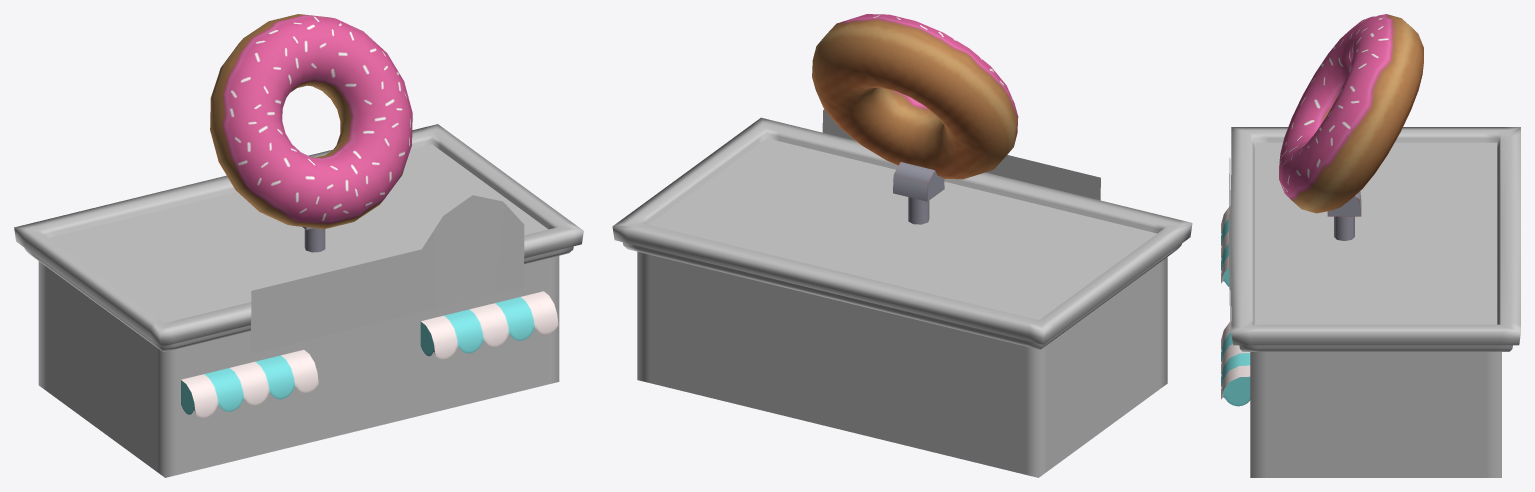
The model's file is House_Bonkin.fbx.
The picture shows the model from 3 angles, left to right: view 1: azimuth 30°, elevation 25°; view 2: azimuth 150°, elevation 25°; view 3: azimuth 270°, elevation 25°; orthographic projection. The views are drawn at different scales.
Parts seen in each view (by area): view 1: House_Bonkin, Donut, Sign, Awning_1; view 2: House_Bonkin, Donut, Sign; view 3: House_Bonkin, Donut, Awning_1, Sign.
Boxes of the visible parts, bbox=[...] form: House_Bonkin: bbox=[14, 124, 583, 477]; Donut: bbox=[210, 14, 412, 229]; Sign: bbox=[250, 195, 524, 353]; Awning_1: bbox=[181, 291, 558, 417]; House_Bonkin: bbox=[612, 117, 1192, 477]; Donut: bbox=[812, 14, 1018, 179]; Sign: bbox=[822, 109, 1100, 200]; House_Bonkin: bbox=[1231, 127, 1520, 477]; Donut: bbox=[1279, 14, 1423, 213]; Awning_1: bbox=[1221, 207, 1250, 406]; Sign: bbox=[1228, 158, 1231, 338].
Size of the model in its own units: 361 by 292 by 223.
